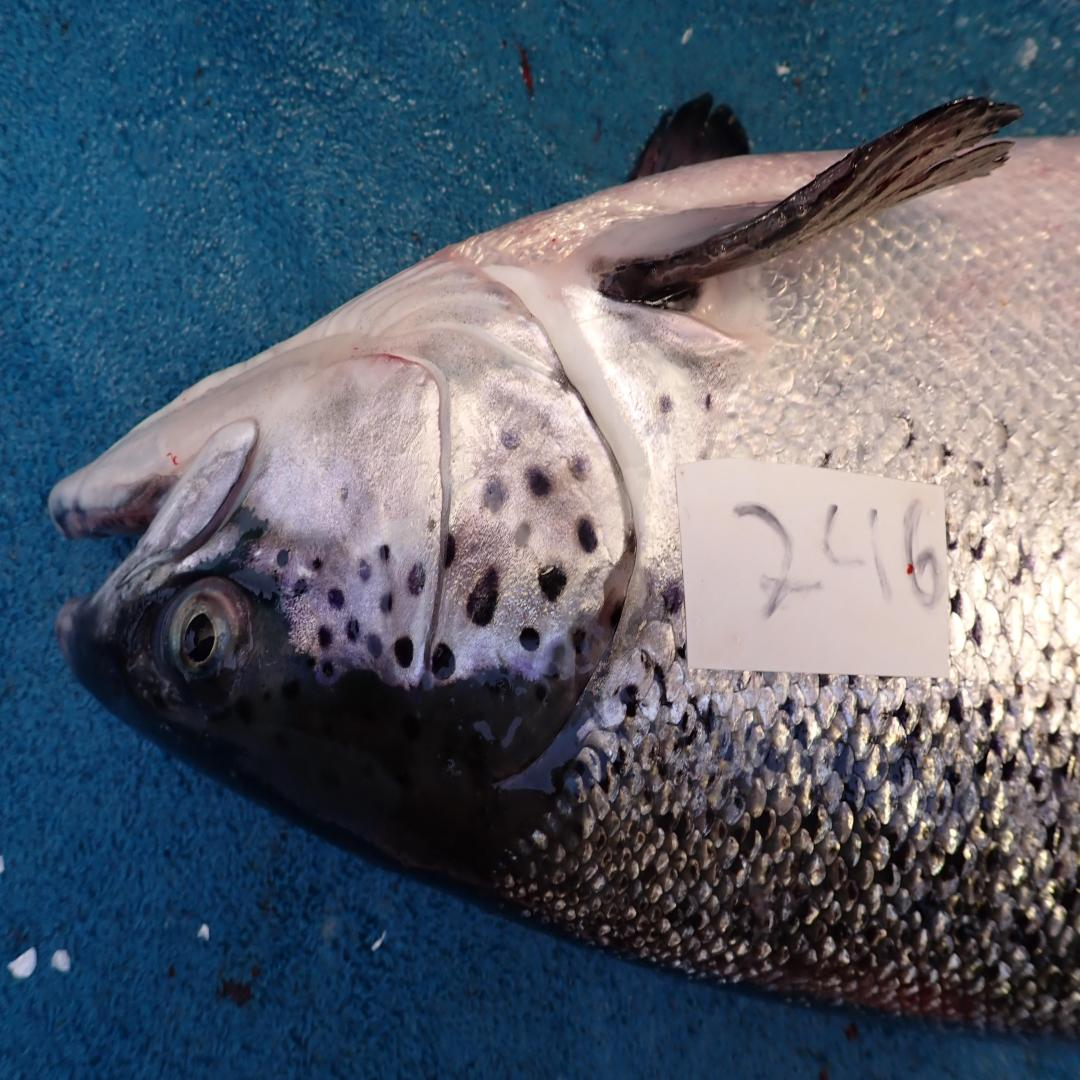spot: (466, 568, 500, 627), (538, 565, 567, 602), (432, 644, 456, 681), (527, 467, 551, 498), (483, 481, 506, 512), (578, 518, 597, 554), (407, 562, 426, 596), (394, 636, 413, 667), (548, 645, 565, 678), (519, 627, 540, 652), (515, 520, 532, 548), (570, 456, 589, 481), (609, 599, 623, 631), (327, 588, 346, 610), (572, 627, 586, 655), (366, 634, 382, 658), (502, 430, 521, 450), (445, 534, 456, 568), (380, 591, 394, 616), (346, 619, 359, 641), (626, 528, 637, 554), (359, 560, 371, 582), (276, 548, 289, 568), (293, 579, 308, 596), (319, 627, 331, 647), (338, 484, 350, 503), (310, 557, 323, 571), (321, 662, 333, 677), (380, 545, 390, 561), (427, 519, 434, 531)
